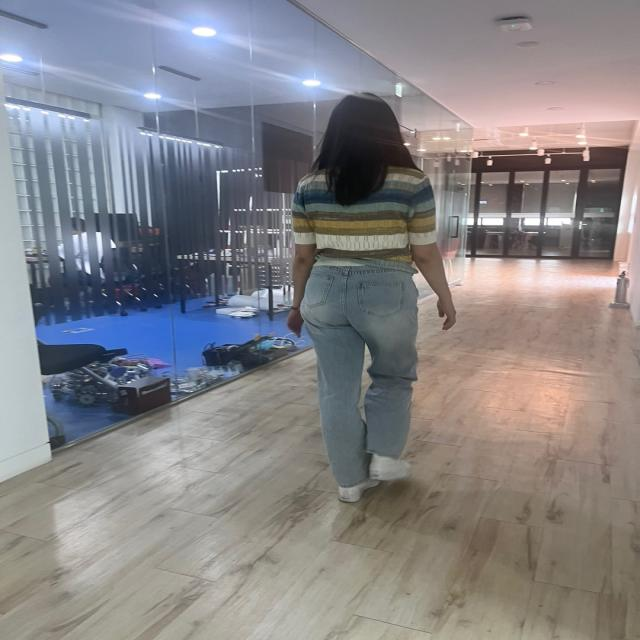not_lay: (289, 95, 456, 504)
